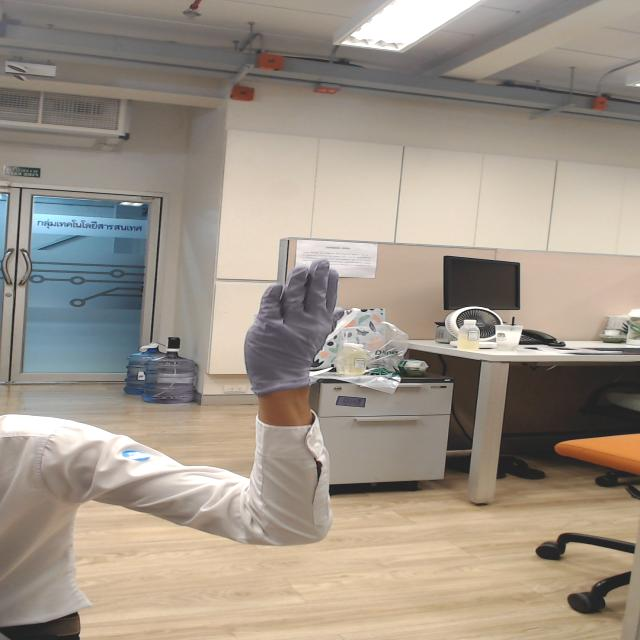glove: (183, 248, 372, 372)
